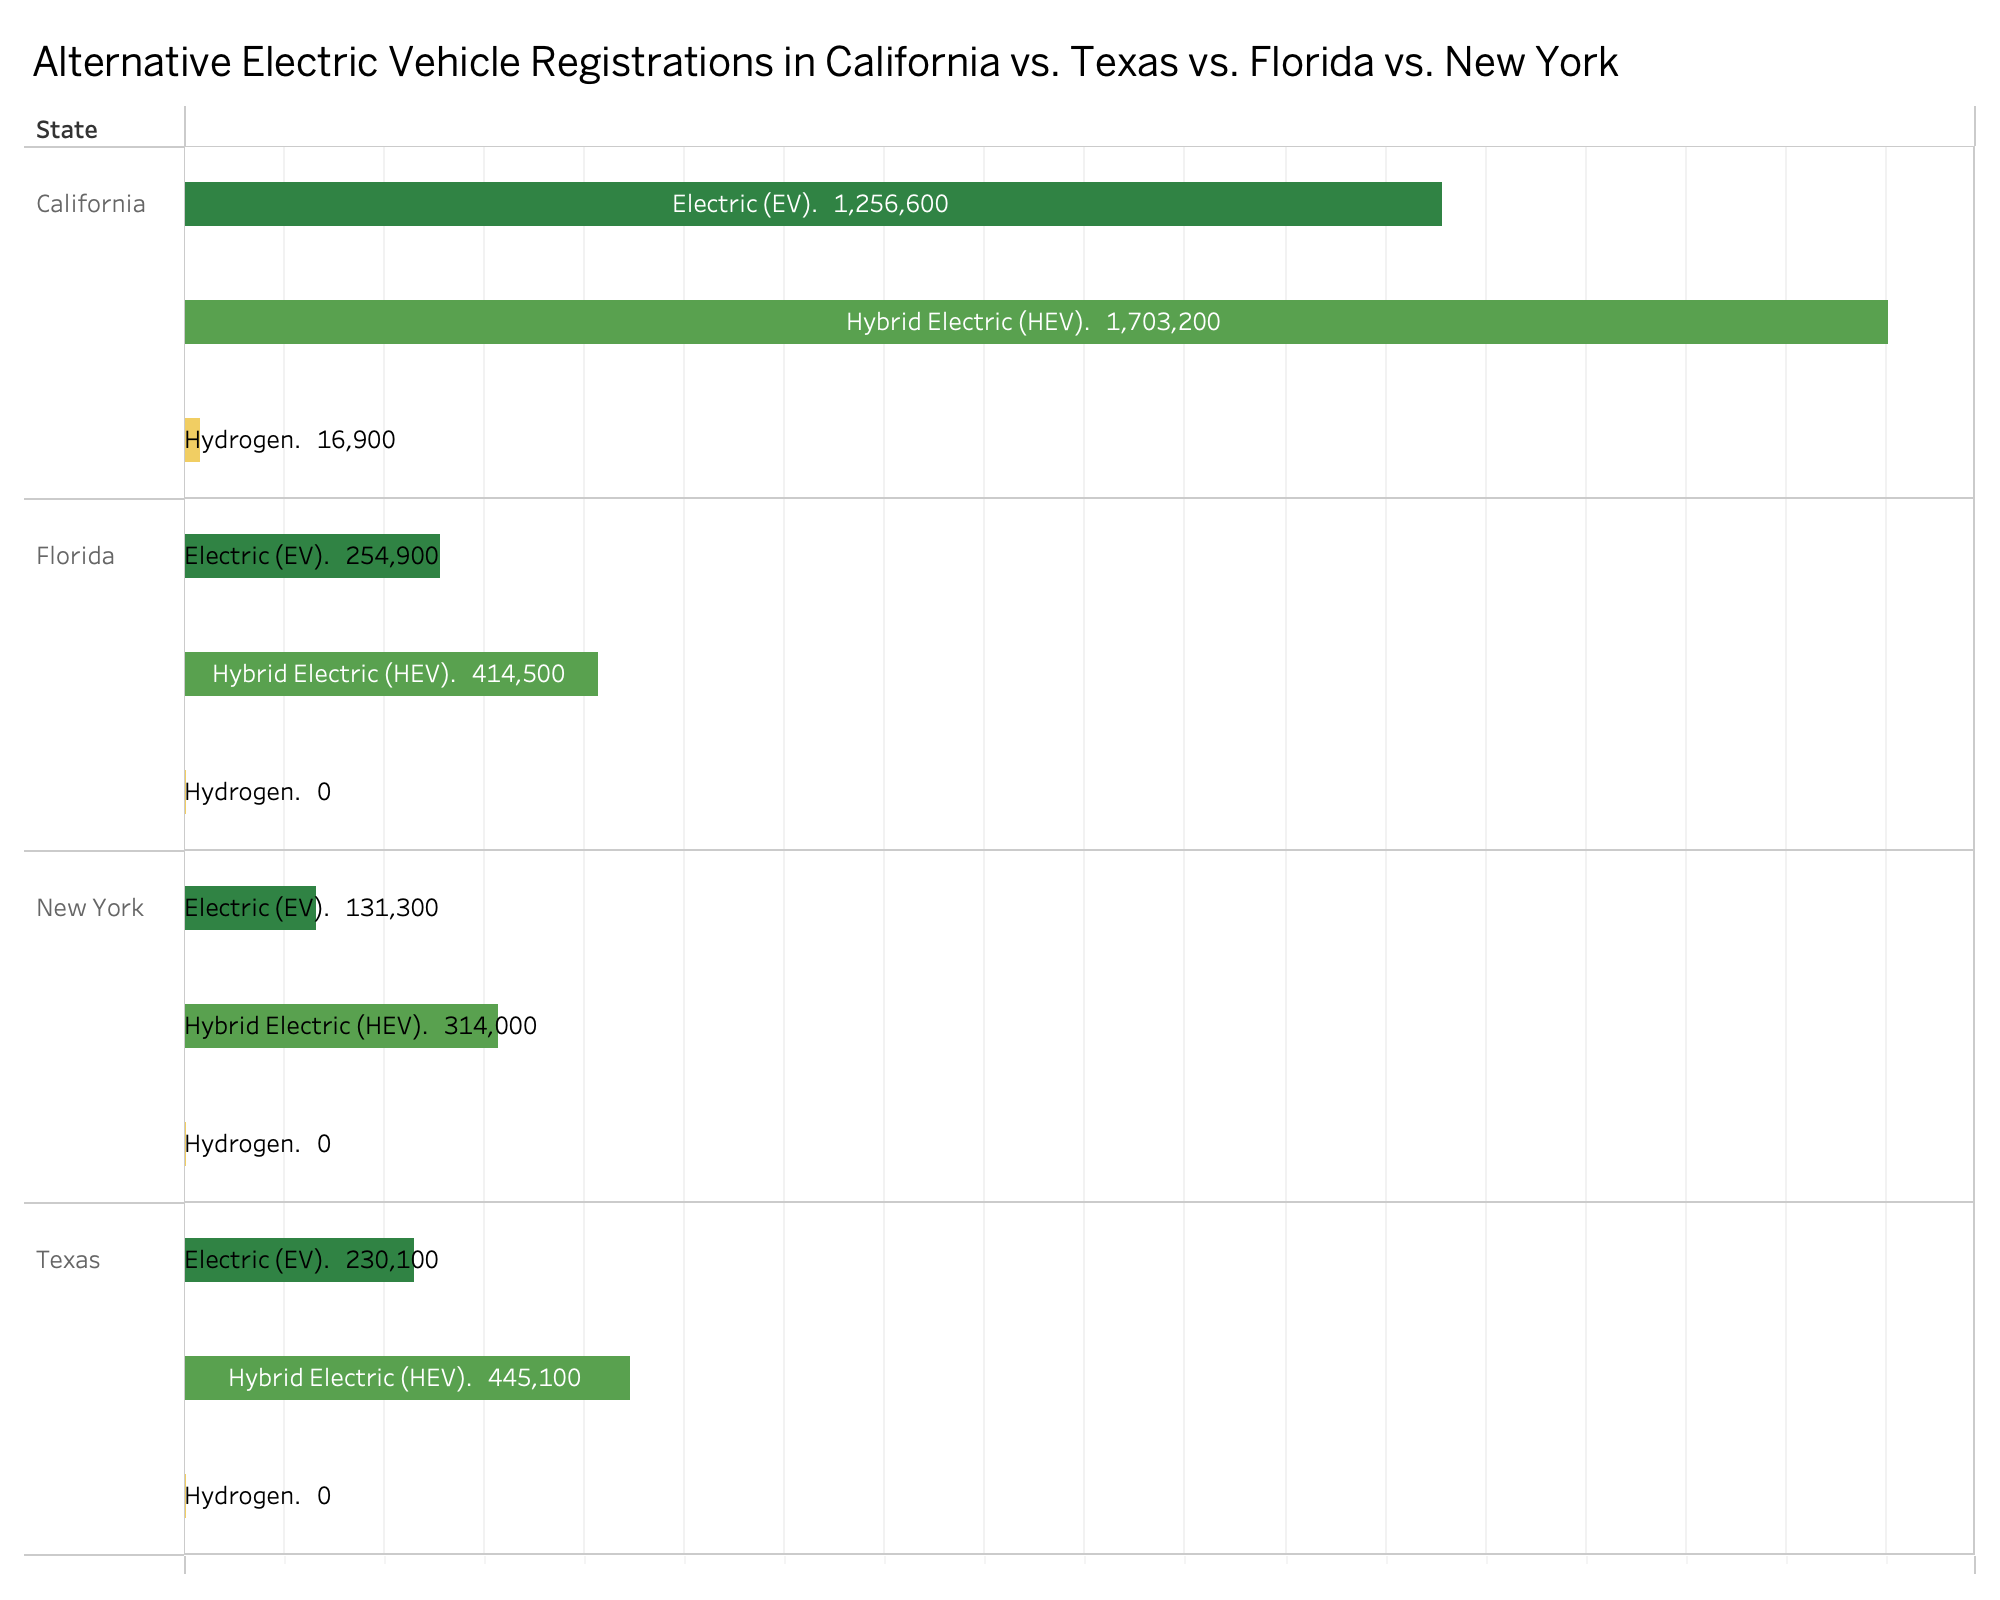

This screenshot's page, from the dashboard's own definition file:
{"tool":"tableau","page":{"name":"Dashboard 2","canvas":[1000,1000],"units":"permille","ordinal":1},"visuals":[{"type":"worksheet","title":"Sheet 3","mark":"Automatic","rows":["State"],"box":[5.5,8.1,988.9,983.9]}]}

Visuals, with their boxes on the dashboard's canvas, which has no fixed pixel size, in thousandths of its width and height (x1, y1, x2, y2). These are canvas units, not pixel positions in the 2000x1600 screenshot, which may show the page scaled, cropped or inside an application window:
"Sheet 3" worksheet: bbox=(6, 8, 994, 992)
